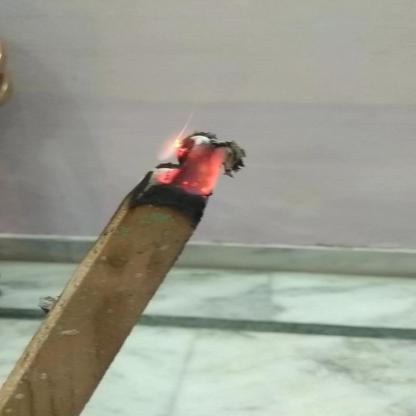fire: (157, 128, 228, 195)
